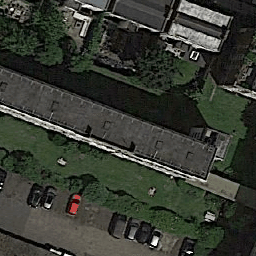car: (65, 193, 82, 217), (111, 216, 128, 240), (42, 186, 58, 210), (27, 187, 43, 209), (137, 223, 153, 245), (125, 219, 141, 240), (147, 230, 162, 250)
